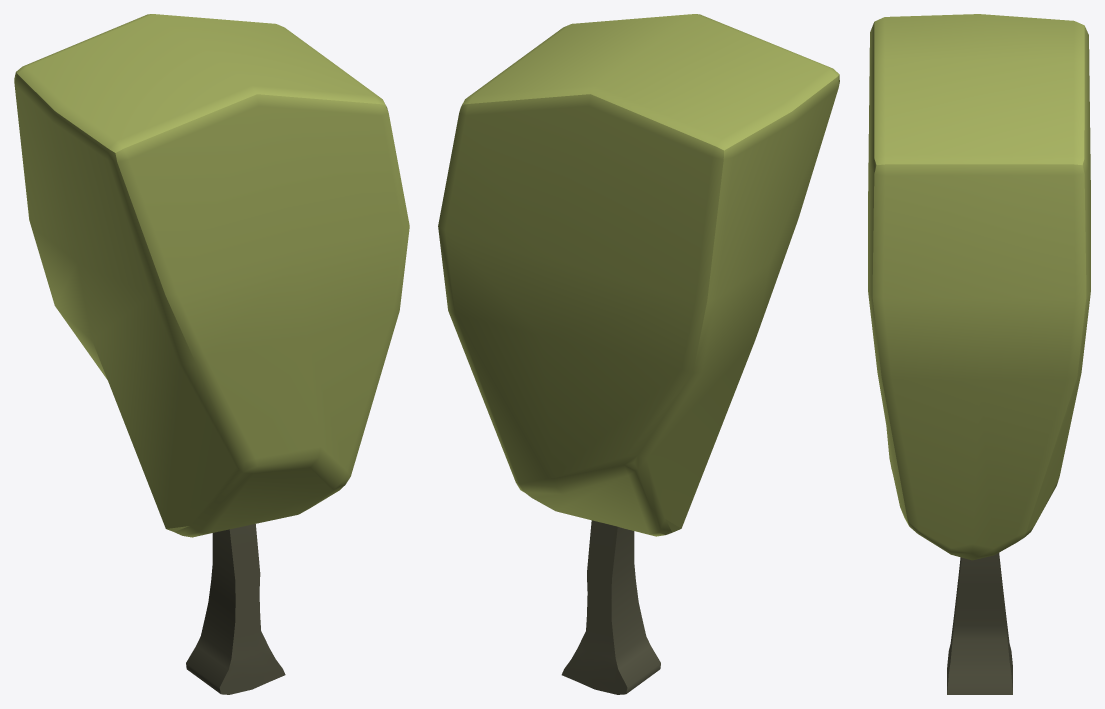
The model's file is TreeOneFBX.fbx.
3 views of the same model, side by side, from view 1: azimuth 30°, elevation 25°; view 2: azimuth 150°, elevation 25°; view 3: azimuth 270°, elevation 25° (orthographic). The views are drawn at different scales.
Visible parts, largest first — view 1: pasted__pCube4, pasted__pCube1; view 2: pasted__pCube4, pasted__pCube1; view 3: pasted__pCube4, pasted__pCube1.
Boxes of the visible parts, x1=… form: pasted__pCube4: x1=14, y1=14, x2=409, y2=537; pasted__pCube1: x1=186, y1=524, x2=285, y2=694; pasted__pCube4: x1=438, y1=14, x2=839, y2=536; pasted__pCube1: x1=561, y1=520, x2=660, y2=694; pasted__pCube4: x1=868, y1=14, x2=1090, y2=560; pasted__pCube1: x1=947, y1=553, x2=1012, y2=694.
Size of the model in its own units: 1.53 by 3.05 by 1.01.
